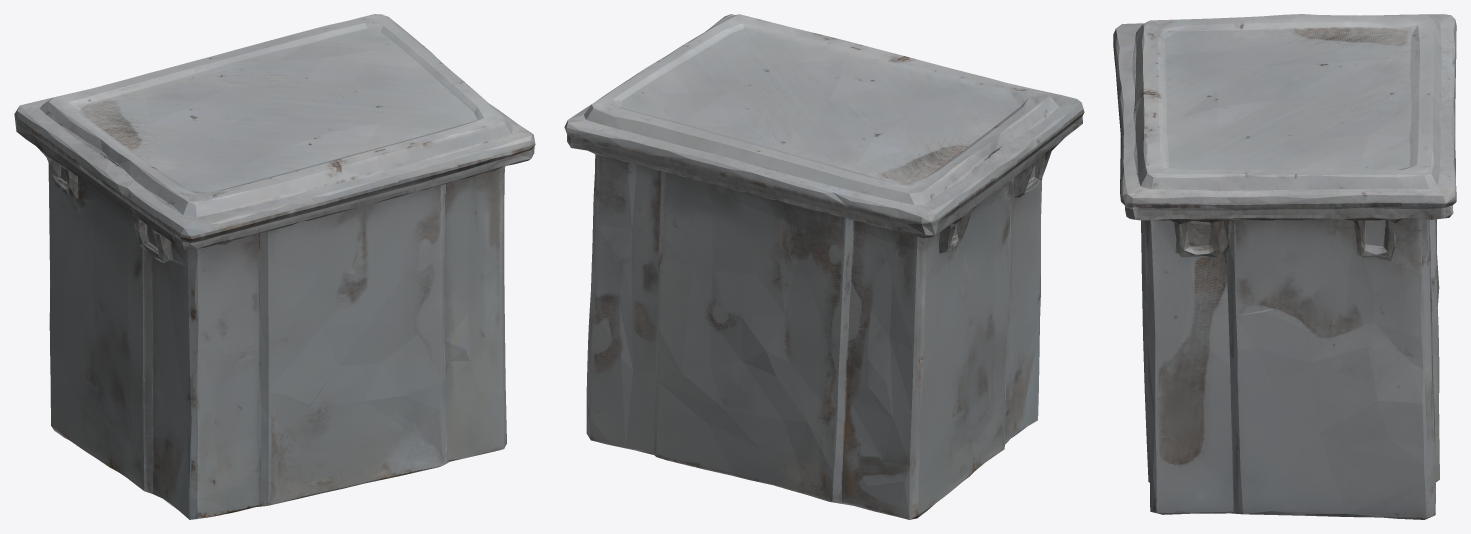
The model's file is dumpster.fbx.
The picture shows the model from 3 angles, left to right: view 1: azimuth 30°, elevation 25°; view 2: azimuth 150°, elevation 25°; view 3: azimuth 270°, elevation 25°; orthographic projection. The views are drawn at different scales.
Visible parts, largest first — view 1: Mesh_0; view 2: Mesh_0; view 3: Mesh_0.
Boxes of the visible parts, x1,y1,x2,y2 form: Mesh_0: (14, 14, 535, 519); Mesh_0: (564, 14, 1084, 519); Mesh_0: (1113, 14, 1456, 519).
Size of the model in its own units: 1.63 by 1.4 by 1.26.
Materials: 1 (1 with a texture image).
